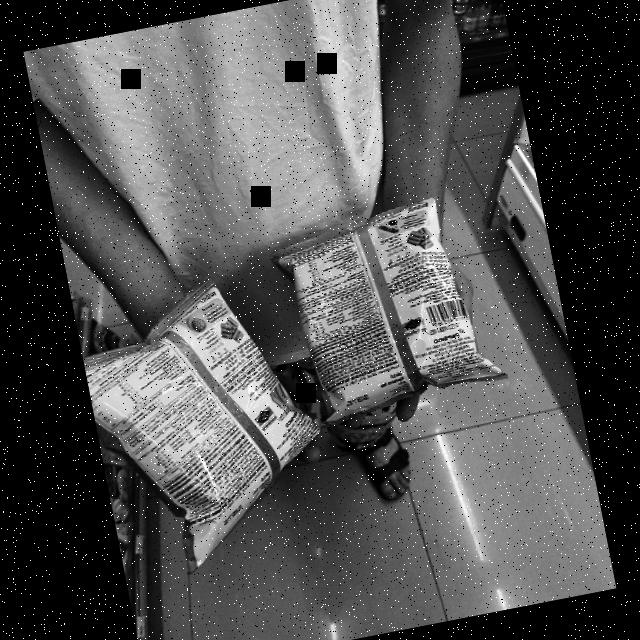snack_bag: (73, 266, 354, 593), (270, 181, 508, 446)
